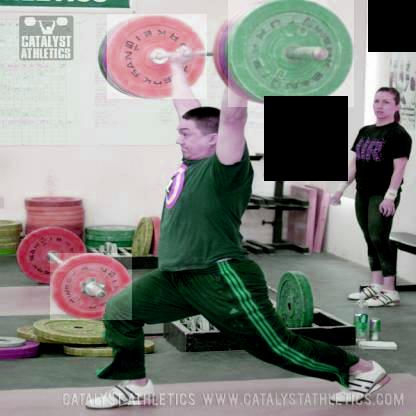barbell: (229, 1, 354, 108), (108, 14, 209, 99), (52, 254, 134, 321)
